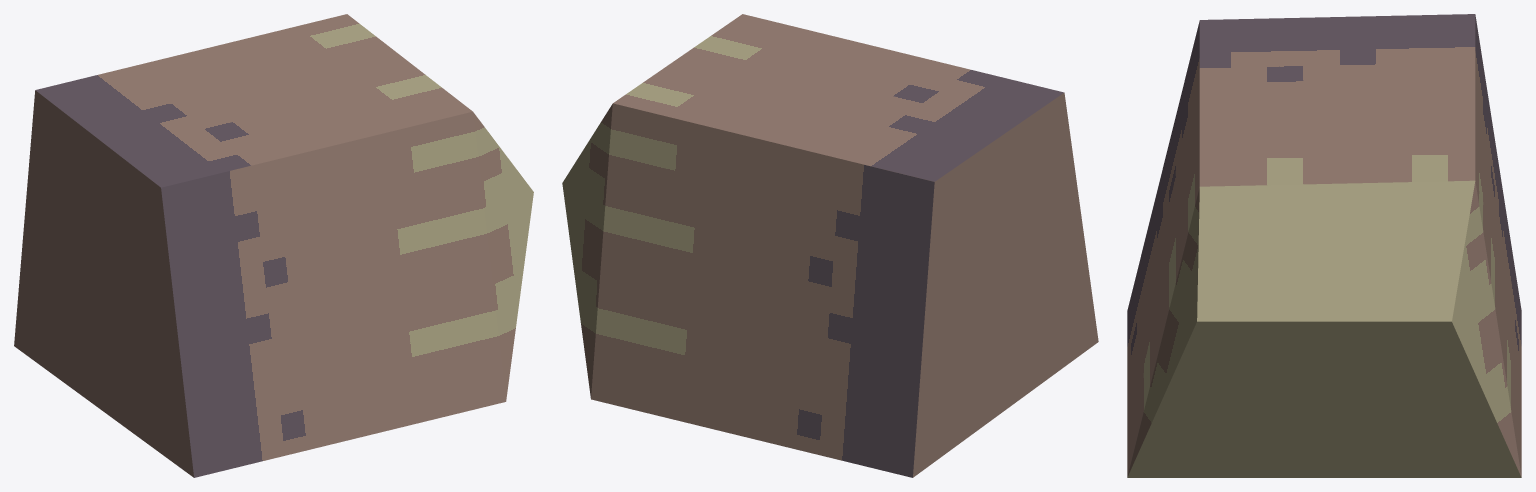
File: turtle_fist.glb
The picture shows the model from 3 angles, left to right: view 1: azimuth 30°, elevation 25°; view 2: azimuth 150°, elevation 25°; view 3: azimuth 270°, elevation 25°; orthographic projection. The views are drawn at different scales.
Visible parts, largest first — view 1: Cube.077; view 2: Cube.077; view 3: Cube.077.
Boxes of the visible parts, bbox=[...] form: Cube.077: bbox=[14, 14, 533, 477]; Cube.077: bbox=[562, 14, 1098, 477]; Cube.077: bbox=[1127, 14, 1521, 477].
Bounding box in the file's own units: 1.27 × 0.8853 × 1.06.
Materials: 1 (1 with a texture image).
